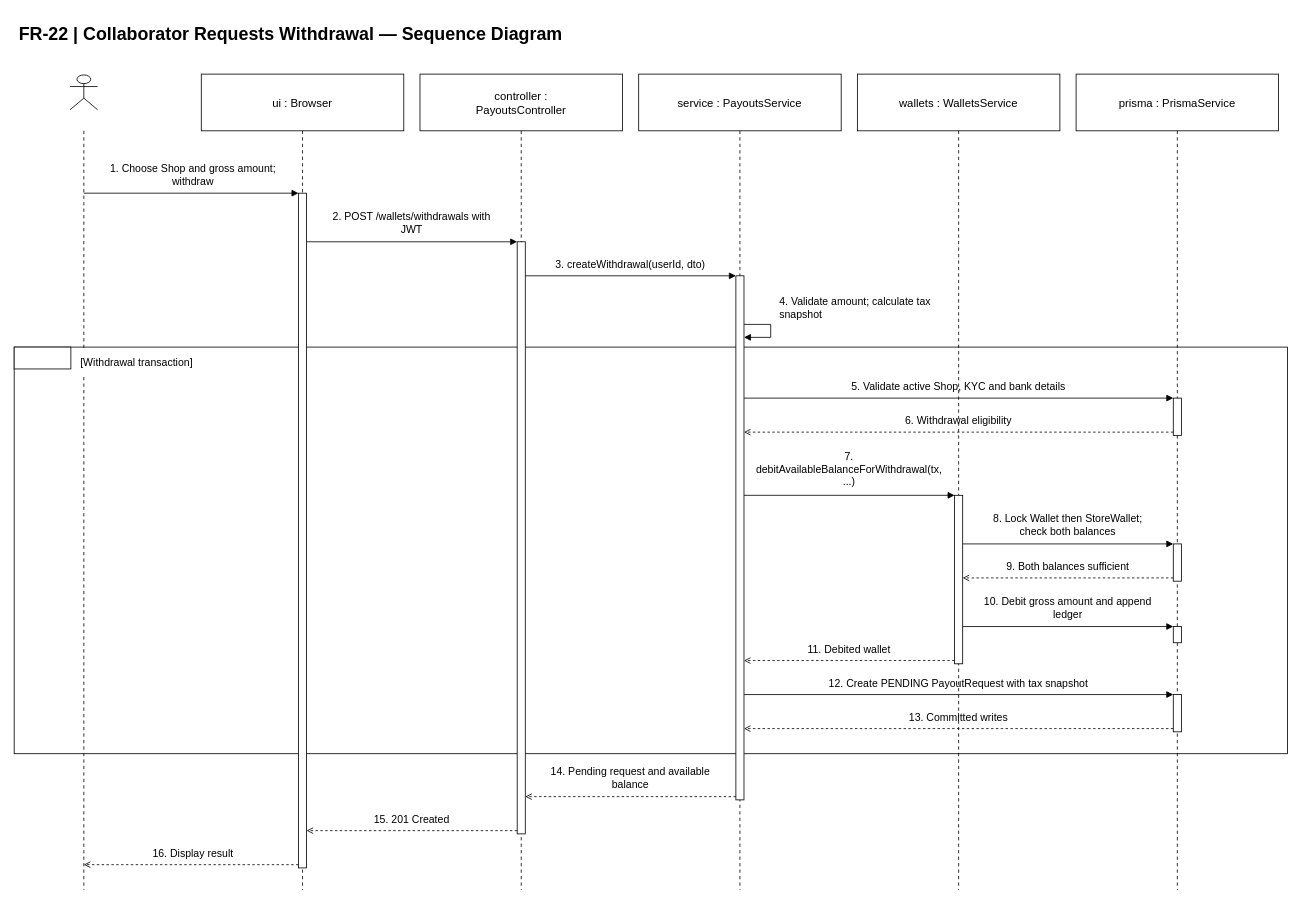
This 1302x905 diagram has some shape labels left out. The shapes that lost their labels are listed below. From the top down, each one's box as (x1, y1, x2, y2) in pixels, then its label:
(69, 74, 98, 110): Collaborator
(13, 346, 71, 369): critical
